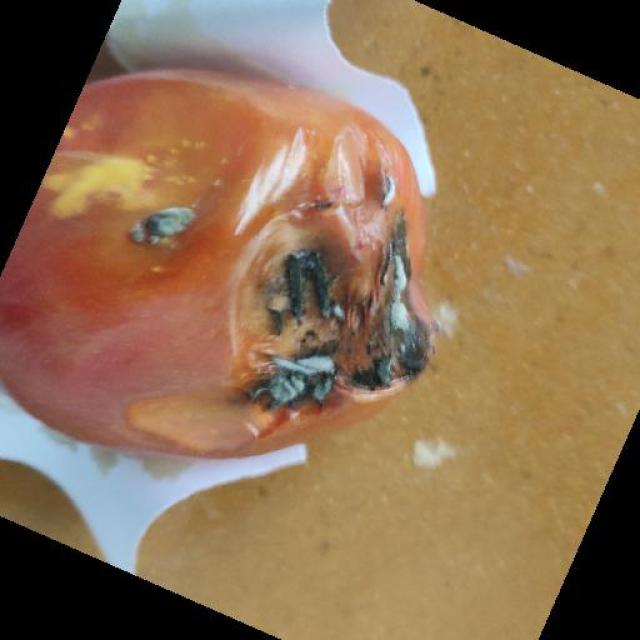Stale_tomato: (26, 99, 469, 409)
